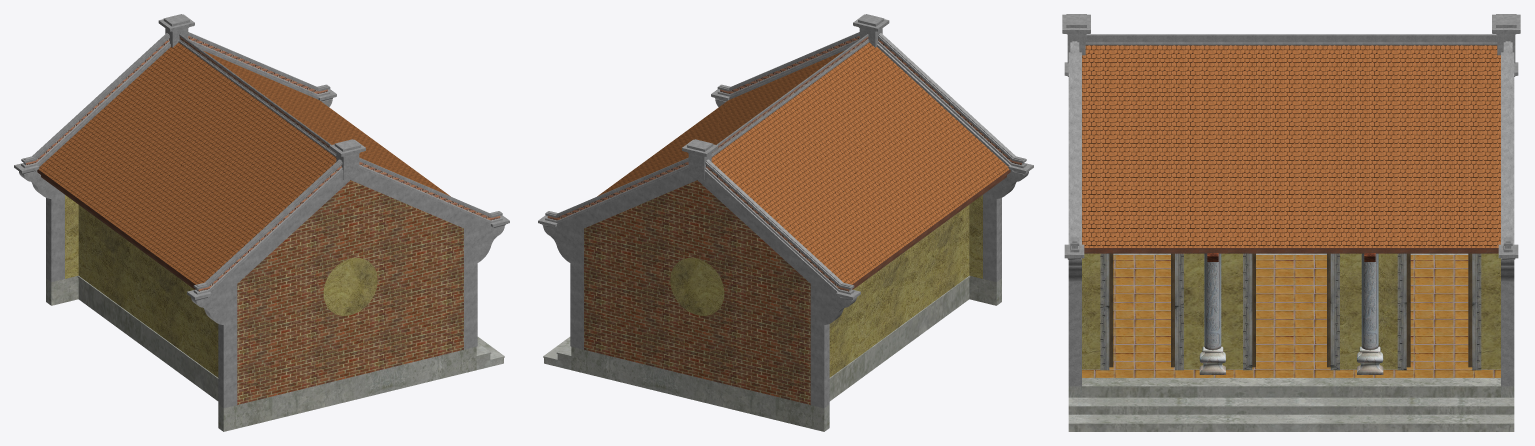
The model's file is smallhouse.fbx.
The picture shows the model from 3 angles, left to right: view 1: azimuth 30°, elevation 25°; view 2: azimuth 150°, elevation 25°; view 3: azimuth 270°, elevation 25°; orthographic projection. The views are drawn at different scales.
Visible parts, largest first — view 1: G-Object.066, G-Object.011, G-Object.014, G-Object.065, G-Object.001, C-Group#5, C-Group#5.002, G-Object.009, C-Group#5.001, C-Group#5.003, G-Object.060, G-Object.073 (+2 smaller); view 2: G-Object.066, G-Object.011, G-Object.014, G-Object.073, G-Object.001, C-Group#5.002, C-Group#5, G-Object.009, C-Group#5.003, C-Group#5.001, G-Object.068, G-Object.065 (+2 smaller); view 3: G-Object.011, G-Object.001, G-Object.013, G-Object.002, G-Object.066, G-Object.009, G-Object.077, G-Object.058, C-Group#5.001, C-Group#5.003, G-Object.079, G-Object.060 (+2 smaller).
Part boxes in pixels (left/top/right/bottom): G-Object.066: left=19, top=44, right=504, bottom=408; G-Object.011: left=37, top=42, right=450, bottom=286; G-Object.014: left=78, top=205, right=218, bottom=377; G-Object.065: left=218, top=346, right=476, bottom=431; G-Object.001: left=77, top=275, right=218, bottom=400; C-Group#5: left=193, top=159, right=342, bottom=294; C-Group#5.002: left=21, top=33, right=169, bottom=168; G-Object.009: left=178, top=34, right=336, bottom=157; C-Group#5.001: left=359, top=157, right=502, bottom=222; C-Group#5.003: left=188, top=32, right=330, bottom=96; G-Object.060: left=329, top=139, right=365, bottom=179; G-Object.073: left=46, top=276, right=78, bottom=305; G-Object.066: left=543, top=44, right=1028, bottom=408; G-Object.011: left=597, top=42, right=1010, bottom=286; G-Object.014: left=829, top=205, right=969, bottom=377; G-Object.073: left=571, top=346, right=829, bottom=431; G-Object.001: left=829, top=275, right=970, bottom=401; C-Group#5.002: left=705, top=159, right=854, bottom=294; C-Group#5: left=878, top=33, right=1026, bottom=168; G-Object.009: left=711, top=34, right=869, bottom=157; C-Group#5.003: left=545, top=157, right=688, bottom=222; C-Group#5.001: left=717, top=32, right=859, bottom=96; G-Object.068: left=682, top=139, right=718, bottom=179; G-Object.065: left=969, top=276, right=1001, bottom=305; G-Object.011: left=1082, top=45, right=1500, bottom=252; G-Object.001: left=1082, top=253, right=1500, bottom=397; G-Object.013: left=1082, top=253, right=1500, bottom=370; G-Object.002: left=1068, top=397, right=1514, bottom=431; G-Object.066: left=1068, top=52, right=1514, bottom=386; G-Object.009: left=1085, top=34, right=1497, bottom=45; G-Object.077: left=1204, top=253, right=1378, bottom=350; G-Object.058: left=1109, top=253, right=1472, bottom=367; C-Group#5.001: left=1070, top=41, right=1079, bottom=252; C-Group#5.003: left=1503, top=41, right=1512, bottom=252; G-Object.079: left=1199, top=346, right=1383, bottom=374; G-Object.060: left=1062, top=14, right=1090, bottom=63.
Bounding box in the file's own units: 697 × 537 × 700.
Materials: 15 (13 with a texture image).
